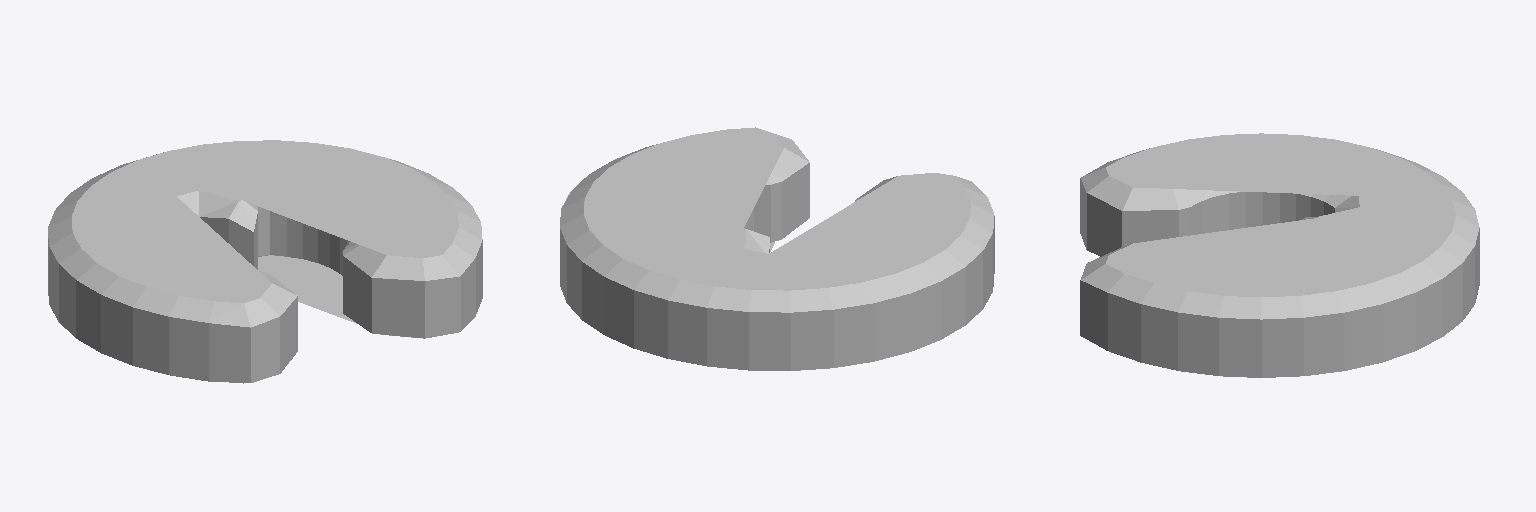
The model's file is cue_h.obj.
3 views of the same model, side by side, from view 1: azimuth 30°, elevation 25°; view 2: azimuth 150°, elevation 25°; view 3: azimuth 270°, elevation 25° (orthographic).
Visible parts, largest first — view 1: Circle; view 2: Circle; view 3: Circle.
Part boxes in pixels (x1,y1,x2,y2): Circle: (48, 140, 482, 383); Circle: (560, 127, 994, 370); Circle: (1080, 133, 1479, 377).
Size of the model in its own units: 2 by 0.4107 by 1.83.